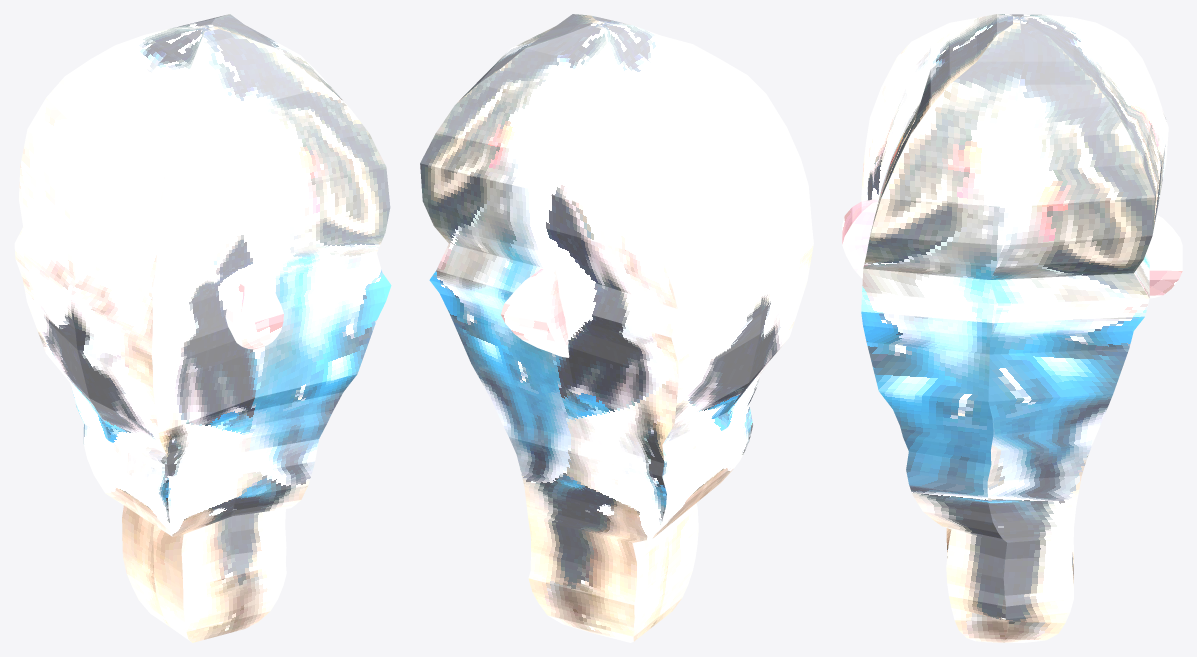
File: metamorphosis_v2_txt2.glb
3 views of the same model, side by side, from view 1: azimuth 30°, elevation 25°; view 2: azimuth 150°, elevation 25°; view 3: azimuth 270°, elevation 25° (orthographic). The views are drawn at different scales.
Visible parts, largest first — view 1: metamorphosis_v2; view 2: metamorphosis_v2; view 3: metamorphosis_v2.
Part boxes in pixels (left/top/right/bottom): metamorphosis_v2: left=14, top=14, right=391, bottom=642; metamorphosis_v2: left=420, top=14, right=813, bottom=642; metamorphosis_v2: left=842, top=14, right=1182, bottom=642.
Size of the model in its own units: 1.29 by 2.69 by 1.33.
